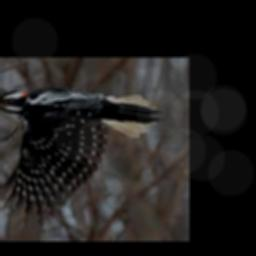Woodpecker: (0, 86, 162, 223)
